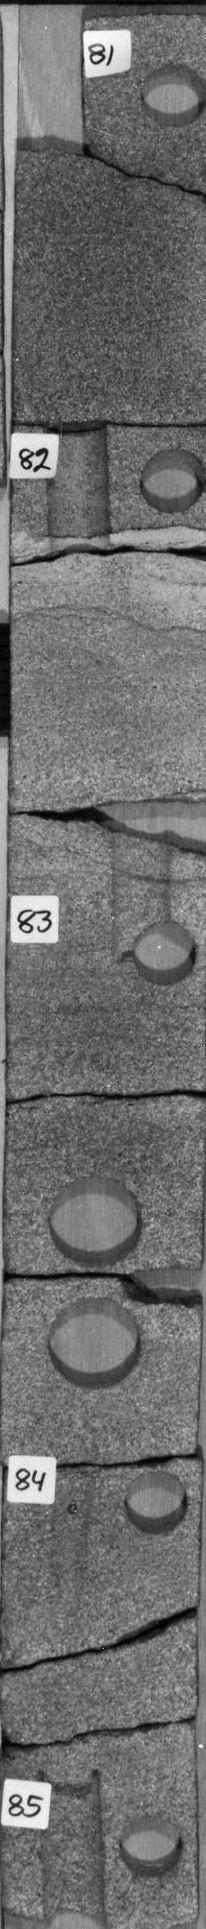hplug: (112, 1808, 190, 1883), (132, 55, 206, 133), (118, 1466, 196, 1539), (128, 917, 204, 989), (134, 445, 206, 517)
scal: (42, 1293, 144, 1399), (44, 1172, 146, 1270)
vplug: (30, 1763, 112, 1925), (20, 15, 100, 169), (38, 415, 113, 549), (100, 829, 176, 955), (42, 1471, 104, 1619)
